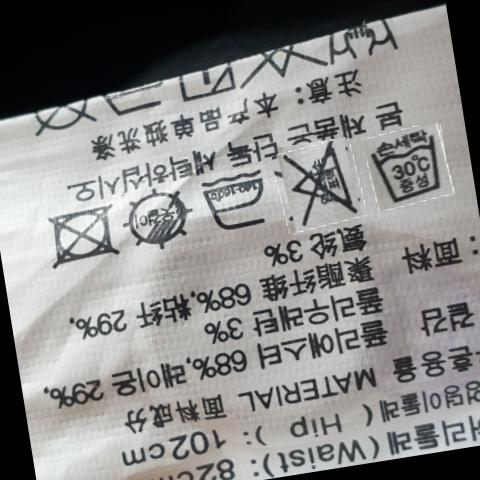DN_bleach: (289, 145, 353, 223)
DN_tumble_dry: (48, 198, 121, 271)
hand_wash: (370, 127, 444, 206)
iron_high: (199, 165, 270, 235)
line_dry_in_shade: (126, 186, 194, 254)
